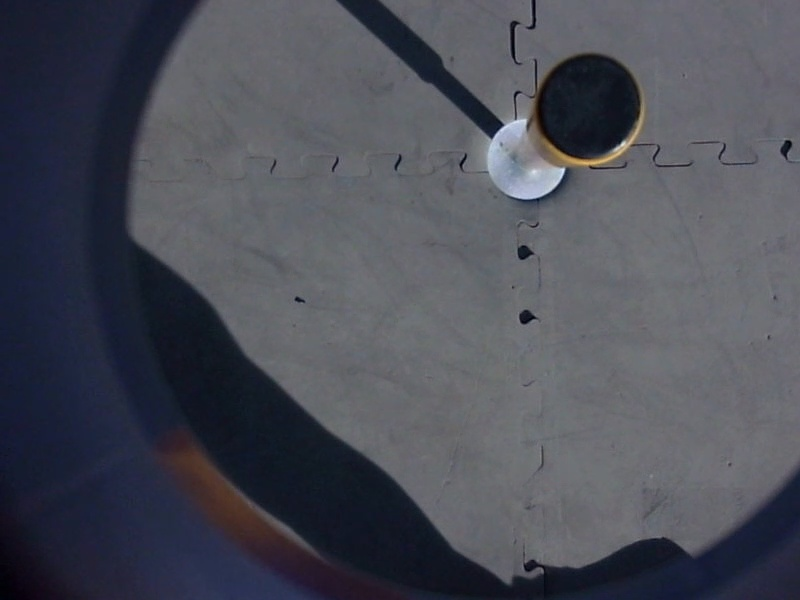tip: (530, 46, 650, 171)
